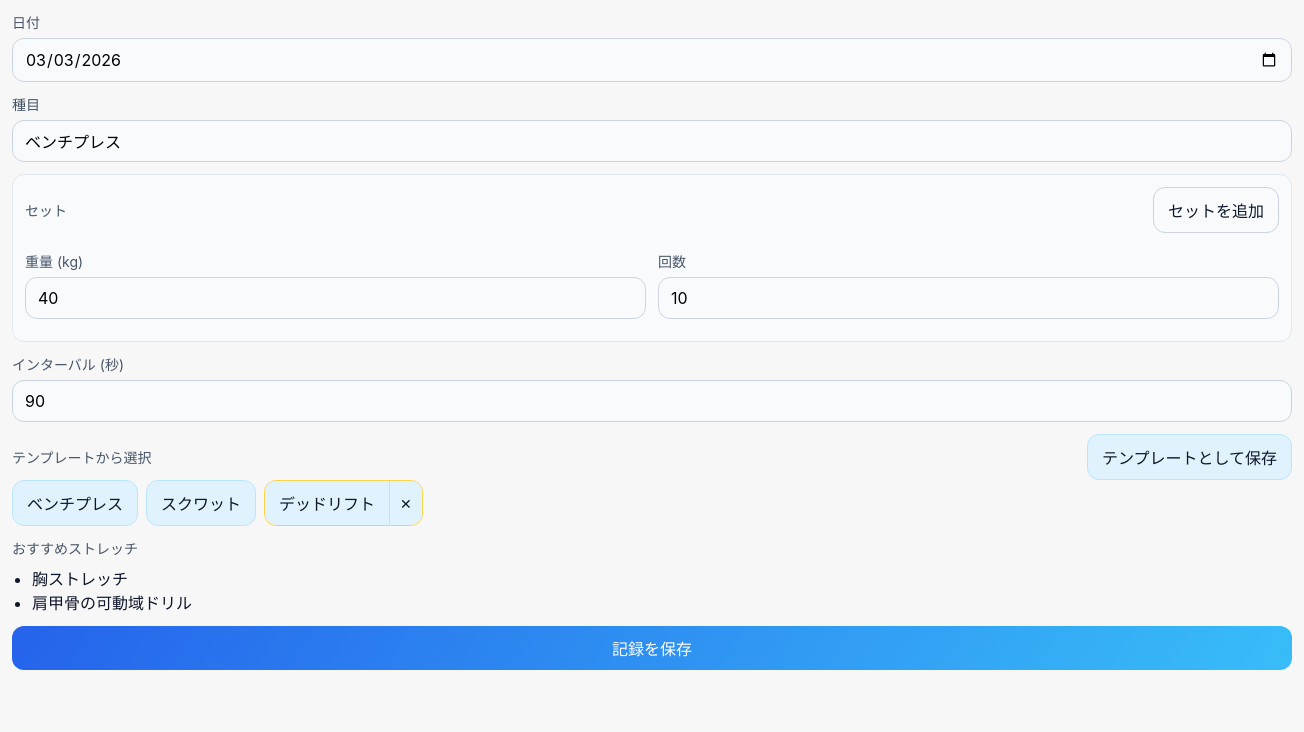
Test case: TrainingLogForm Templates › should delete user template when delete button is clicked
Expected: the button "デッドリフト" is shown, [265, 481, 389, 525]
Click the button named "デッドリフトテンプレートを削除". click: (405, 503)
box: [389, 481, 422, 525]
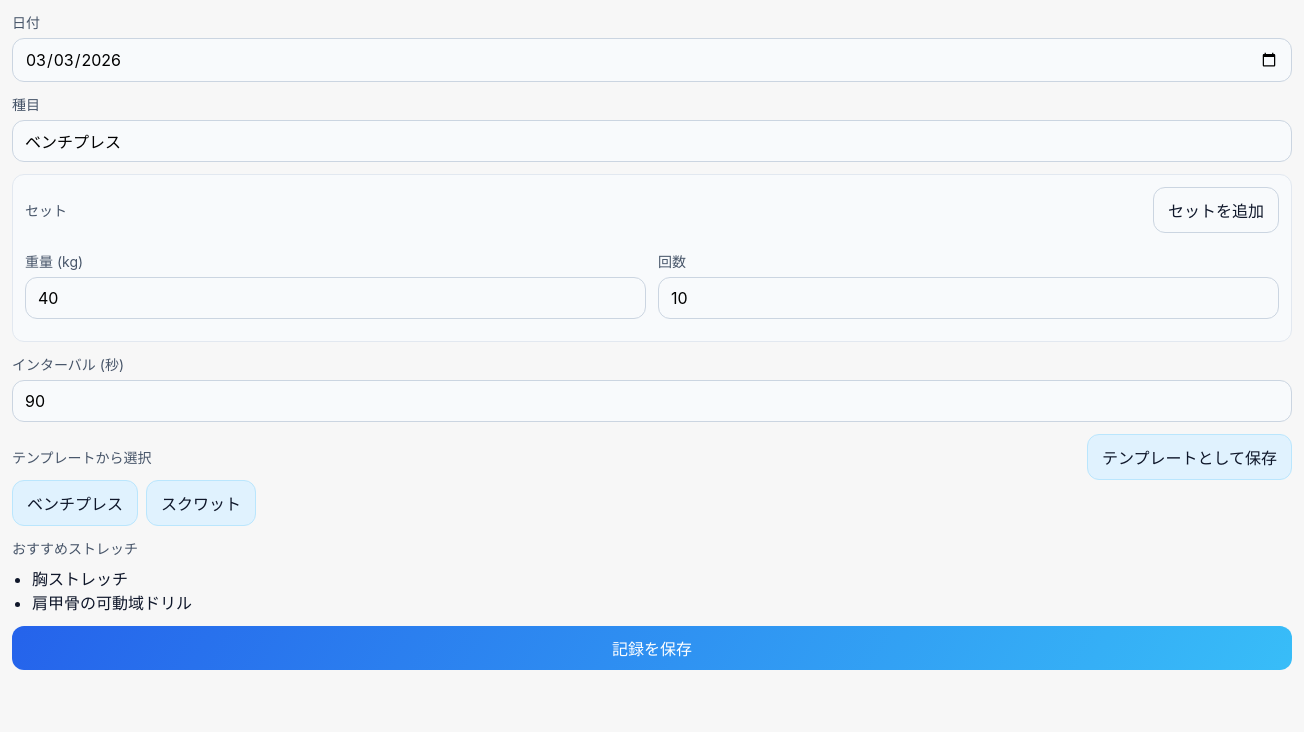
Now the button "デッドリフト" is gone
